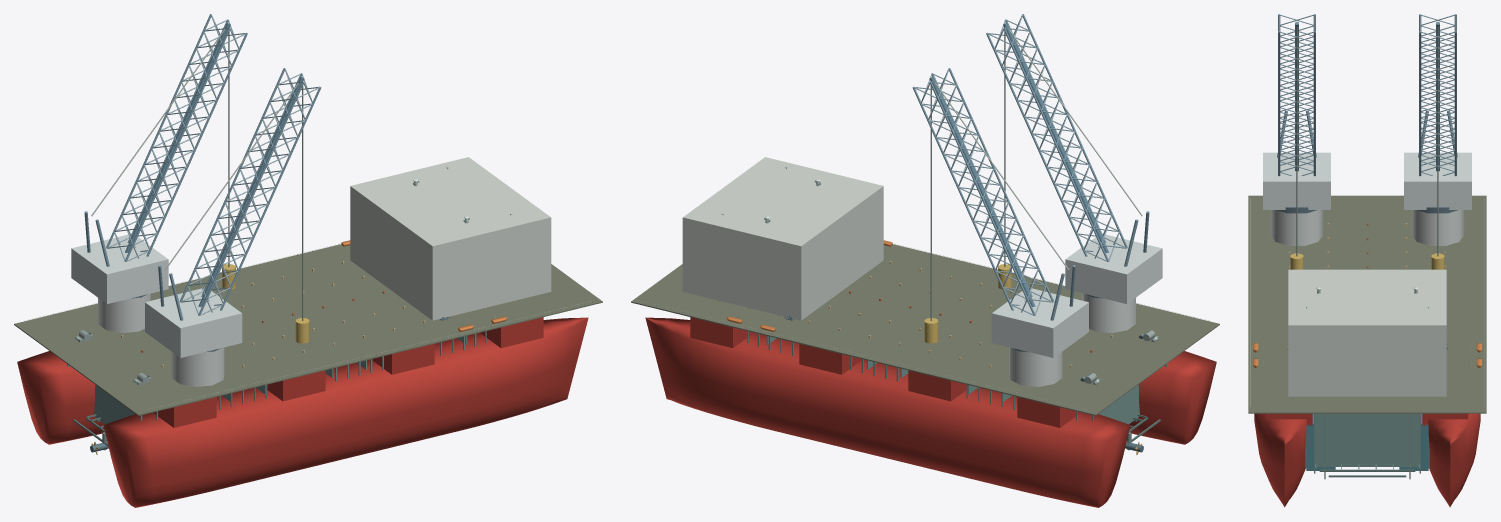
Rendered from sleipnir.lod0.glb.
3 views of the same model, side by side, from view 1: azimuth 30°, elevation 25°; view 2: azimuth 150°, elevation 25°; view 3: azimuth 270°, elevation 25° (orthographic). The views are drawn at different scales.
Parts seen in each view (by area): view 1: sleipnir.structure.twin-hulls.starboard-pontoon.1, sleipnir.structure.decks.main-strength-deck.1, sleipnir.accommodation.superstructure.accommodation-block.1, sleipnir.cargo.starboard-heavy-crane.starboard-heavy-crane-m (×5), sleipnir.structure.twin-hulls.port-pontoon.1, sleipnir.cargo.port-heavy-crane.port-heavy-crane-machinery-h, sleipnir.cargo.port-heavy-crane.port-heavy-crane-main-lattic (×3), sleipnir.cargo.starboard-heavy-crane.starboard-heavy-crane-p, sleipnir.cargo.port-heavy-crane.port-heavy-crane-pedestal.1, sleipnir.structure.columns.support-column-1-4.2, sleipnir.structure.columns.support-column-1-1.2, sleipnir.structure.columns.support-column-1-2.2 (+3 smaller); view 2: sleipnir.structure.twin-hulls.port-pontoon.1, sleipnir.structure.decks.main-strength-deck.1, sleipnir.accommodation.superstructure.accommodation-block.1, sleipnir.cargo.starboard-heavy-crane.starboard-heavy-crane-m (×5), sleipnir.structure.twin-hulls.starboard-pontoon.1, sleipnir.cargo.port-heavy-crane.port-heavy-crane-machinery-h, sleipnir.cargo.port-heavy-crane.port-heavy-crane-main-lattic (×3), sleipnir.cargo.port-heavy-crane.port-heavy-crane-pedestal.1, sleipnir.cargo.starboard-heavy-crane.starboard-heavy-crane-p, sleipnir.structure.columns.support-column-1-4.1, sleipnir.structure.columns.support-column-1-1.1, sleipnir.structure.columns.support-column-1-2.1 (+3 smaller); view 3: sleipnir.structure.decks.main-strength-deck.1, sleipnir.accommodation.superstructure.accommodation-block.1, sleipnir.structure.subdivision.watertight-bulkhead-12.1, sleipnir.cargo.starboard-heavy-crane.starboard-heavy-crane-m (×4), sleipnir.cargo.port-heavy-crane.port-heavy-crane-machinery-h, sleipnir.structure.twin-hulls.starboard-pontoon.1, sleipnir.structure.twin-hulls.port-pontoon.1, sleipnir.cargo.port-heavy-crane.port-heavy-crane-pedestal.1, sleipnir.cargo.starboard-heavy-crane.starboard-heavy-crane-p, sleipnir.cargo.port-heavy-crane.port-heavy-crane-main-lattic (×2), sleipnir.cargo.port-heavy-crane.port-heavy-crane-main-boom.1, sleipnir.cargo.port-heavy-crane.port-heavy-crane-hoist-wire. (+6 smaller).
Boxes of the visible parts, x1=… form: sleipnir.structure.twin-hulls.starboard-pontoon.1: x1=103, y1=317, x2=588, y2=507; sleipnir.structure.decks.main-strength-deck.1: x1=14, y1=244, x2=602, y2=415; sleipnir.accommodation.superstructure.accommodation-block.1: x1=350, y1=157, x2=551, y2=320; sleipnir.cargo.starboard-heavy-crane.starboard-heavy-crane-m (×5): x1=145, y1=68, x2=321, y2=357; sleipnir.structure.twin-hulls.port-pontoon.1: x1=17, y1=351, x2=104, y2=444; sleipnir.cargo.port-heavy-crane.port-heavy-crane-machinery-h: x1=71, y1=233, x2=168, y2=303; sleipnir.cargo.port-heavy-crane.port-heavy-crane-main-lattic (×3): x1=106, y1=14, x2=247, y2=261; sleipnir.cargo.starboard-heavy-crane.starboard-heavy-crane-p: x1=171, y1=347, x2=224, y2=386; sleipnir.cargo.port-heavy-crane.port-heavy-crane-pedestal.1: x1=98, y1=293, x2=151, y2=332; sleipnir.structure.columns.support-column-1-4.2: x1=480, y1=317, x2=543, y2=347; sleipnir.structure.columns.support-column-1-1.2: x1=153, y1=397, x2=216, y2=427; sleipnir.structure.columns.support-column-1-2.2: x1=267, y1=370, x2=325, y2=401; sleipnir.structure.twin-hulls.port-pontoon.1: x1=645, y1=317, x2=1130, y2=507; sleipnir.structure.decks.main-strength-deck.1: x1=631, y1=244, x2=1219, y2=415; sleipnir.accommodation.superstructure.accommodation-block.1: x1=682, y1=157, x2=883, y2=320; sleipnir.cargo.starboard-heavy-crane.starboard-heavy-crane-m (×5): x1=986, y1=14, x2=1162, y2=303; sleipnir.structure.twin-hulls.starboard-pontoon.1: x1=1129, y1=351, x2=1216, y2=444; sleipnir.cargo.port-heavy-crane.port-heavy-crane-machinery-h: x1=991, y1=287, x2=1088, y2=357; sleipnir.cargo.port-heavy-crane.port-heavy-crane-main-lattic (×3): x1=912, y1=68, x2=1054, y2=315; sleipnir.cargo.port-heavy-crane.port-heavy-crane-pedestal.1: x1=1009, y1=347, x2=1062, y2=386; sleipnir.cargo.starboard-heavy-crane.starboard-heavy-crane-p: x1=1082, y1=293, x2=1135, y2=332; sleipnir.structure.columns.support-column-1-4.1: x1=690, y1=317, x2=753, y2=347; sleipnir.structure.columns.support-column-1-1.1: x1=1017, y1=397, x2=1080, y2=427; sleipnir.structure.columns.support-column-1-2.1: x1=908, y1=370, x2=966, y2=401; sleipnir.structure.decks.main-strength-deck.1: x1=1248, y1=195, x2=1486, y2=413; sleipnir.accommodation.superstructure.accommodation-block.1: x1=1288, y1=269, x2=1446, y2=396; sleipnir.structure.subdivision.watertight-bulkhead-12.1: x1=1315, y1=413, x2=1419, y2=466; sleipnir.cargo.starboard-heavy-crane.starboard-heavy-crane-m (×4): x1=1263, y1=21, x2=1330, y2=209; sleipnir.cargo.port-heavy-crane.port-heavy-crane-machinery-h: x1=1404, y1=152, x2=1471, y2=209; sleipnir.structure.twin-hulls.starboard-pontoon.1: x1=1254, y1=413, x2=1306, y2=507; sleipnir.structure.twin-hulls.port-pontoon.1: x1=1428, y1=413, x2=1480, y2=507; sleipnir.cargo.port-heavy-crane.port-heavy-crane-pedestal.1: x1=1411, y1=210, x2=1464, y2=245; sleipnir.cargo.starboard-heavy-crane.starboard-heavy-crane-p: x1=1270, y1=210, x2=1323, y2=245; sleipnir.cargo.port-heavy-crane.port-heavy-crane-main-lattic (×2): x1=1419, y1=31, x2=1456, y2=176; sleipnir.cargo.port-heavy-crane.port-heavy-crane-main-boom.1: x1=1436, y1=21, x2=1439, y2=171; sleipnir.cargo.port-heavy-crane.port-heavy-crane-hoist-wire.: x1=1437, y1=23, x2=1438, y2=256.
Size of the model in its own units: 220 by 171 by 99.96.
